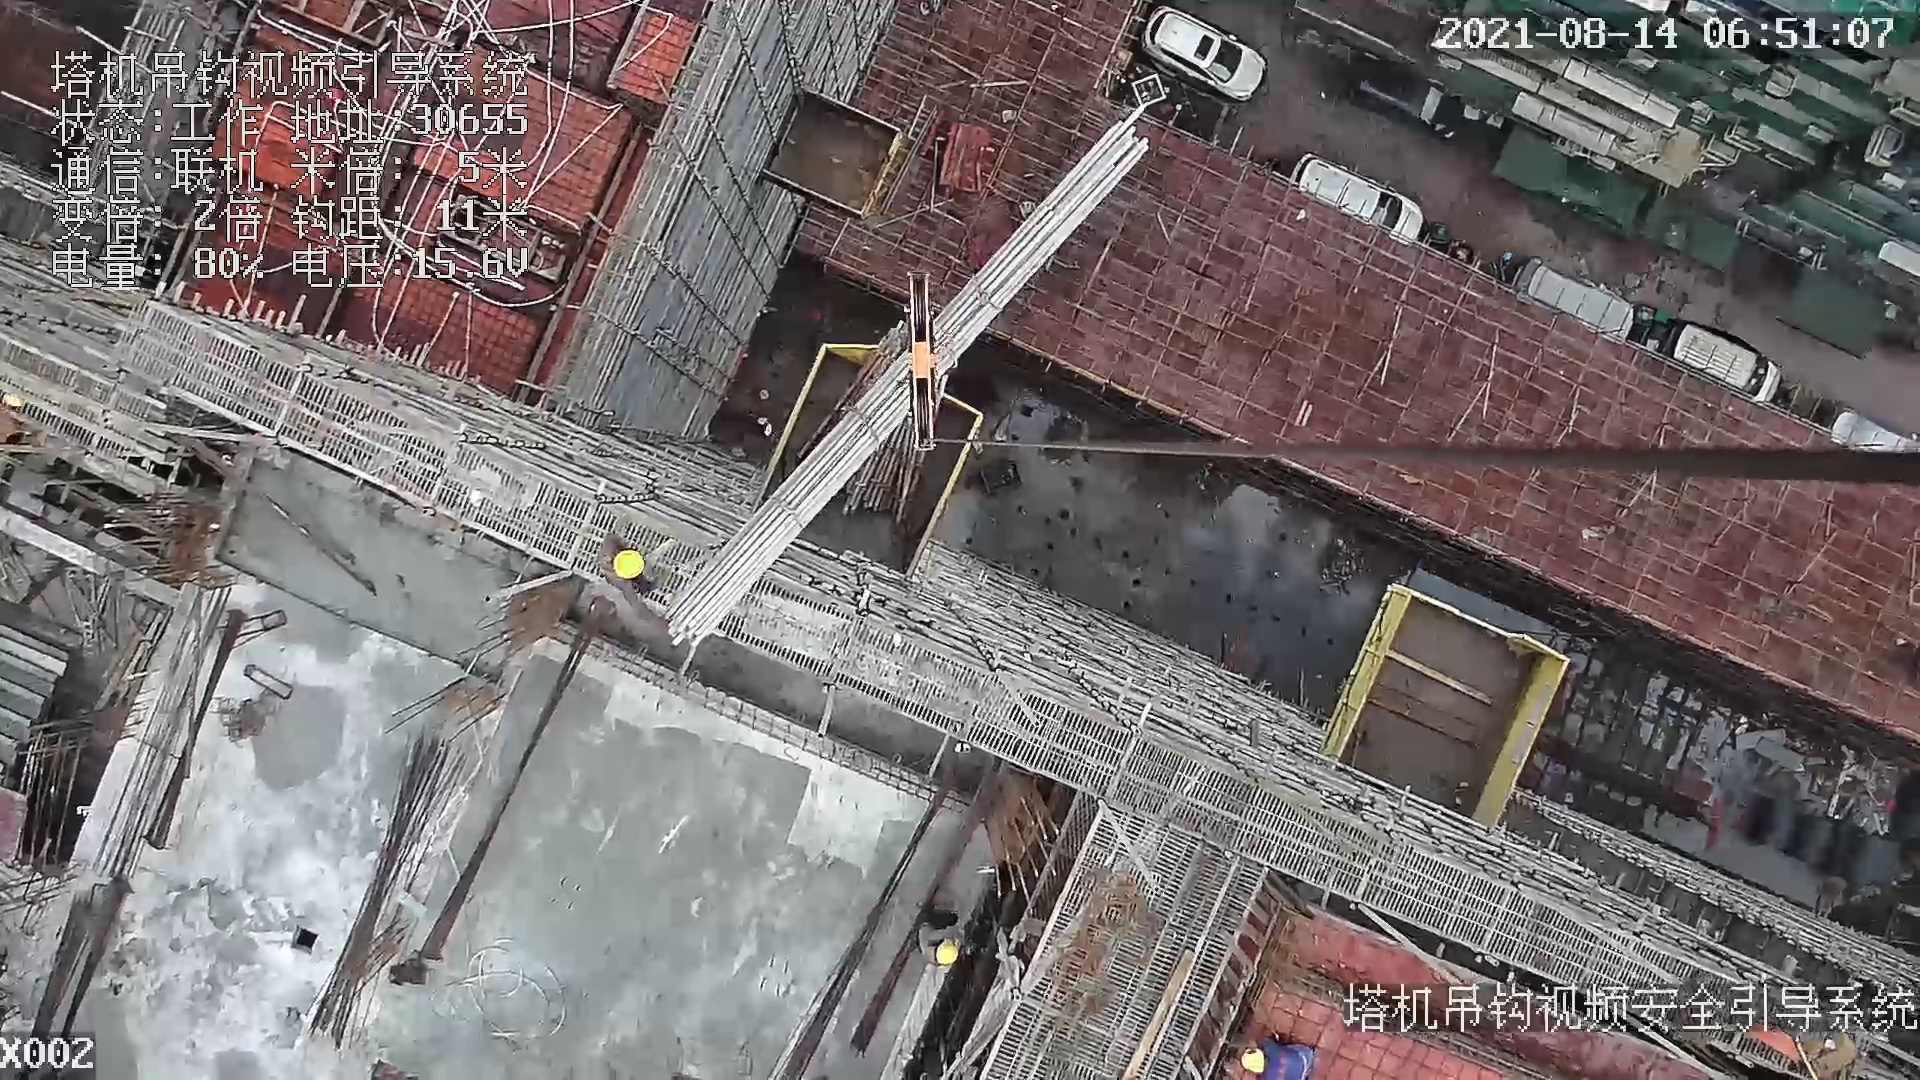helmet: (612, 547, 646, 581), (1242, 1042, 1263, 1077), (933, 943, 963, 966)
person: (587, 523, 655, 599), (918, 901, 982, 974), (1236, 1023, 1315, 1077)
